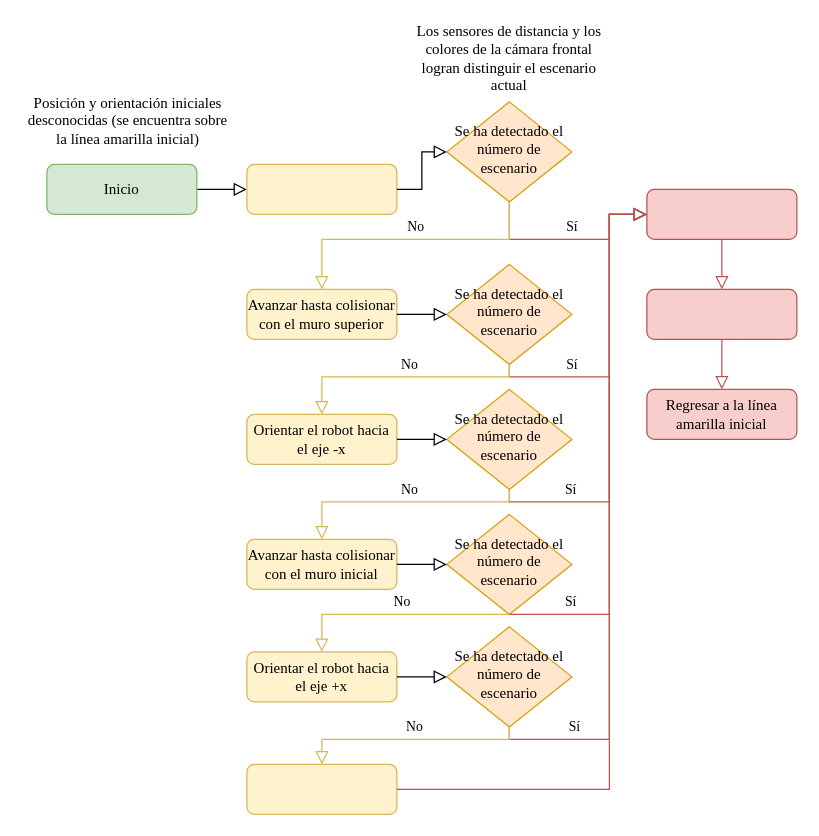
This 819x836 diagram has some shape labels left out. Each missing label, with the centre of its shape:
Avanzar hasta detectar un cambio de escenario: (x=321, y=788)
Orientar el robot hacia el eje -z: (x=321, y=188)
Rescatar a ambas personas: (x=721, y=313)
Seguir la ruta predefinida para ese escenario específico: (x=721, y=213)
